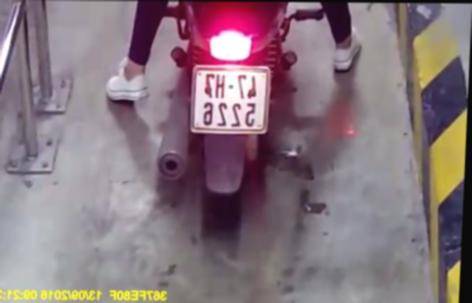License_Plate: (184, 60, 279, 138)
